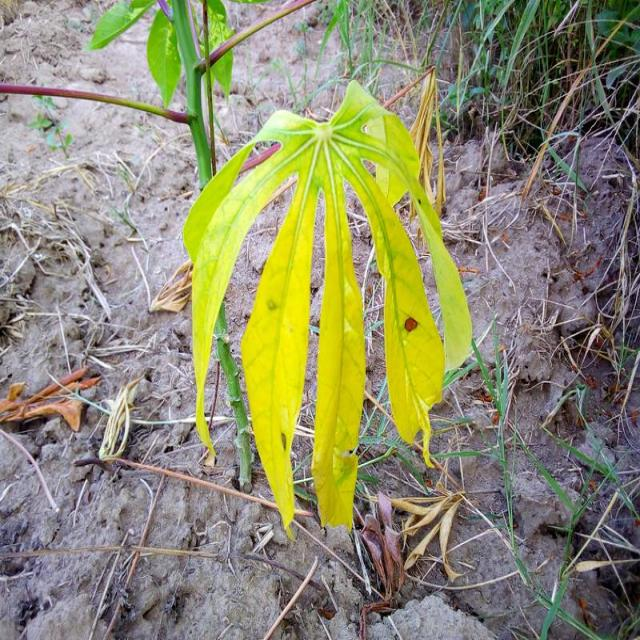cassava leaf: (181, 76, 471, 538)
